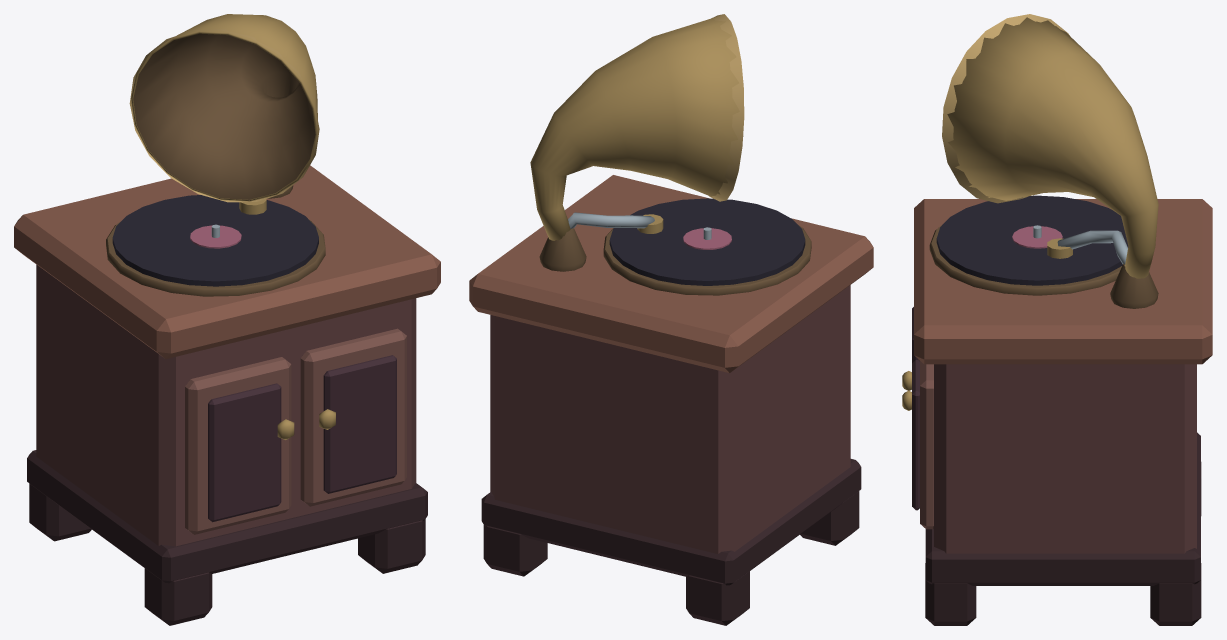
File: gramophone.glb
3 views of the same model, side by side, from view 1: azimuth 30°, elevation 25°; view 2: azimuth 150°, elevation 25°; view 3: azimuth 270°, elevation 25° (orthographic). The views are drawn at different scales.
Parts seen in each view (by area): view 1: gramophone; view 2: gramophone; view 3: gramophone.
Boxes of the visible parts, x1,y1,x2,y2 form: gramophone: (14, 14, 440, 625); gramophone: (469, 14, 873, 625); gramophone: (902, 14, 1212, 625).
Bounding box in the file's own units: 0.594 × 1.09 × 0.5766.
